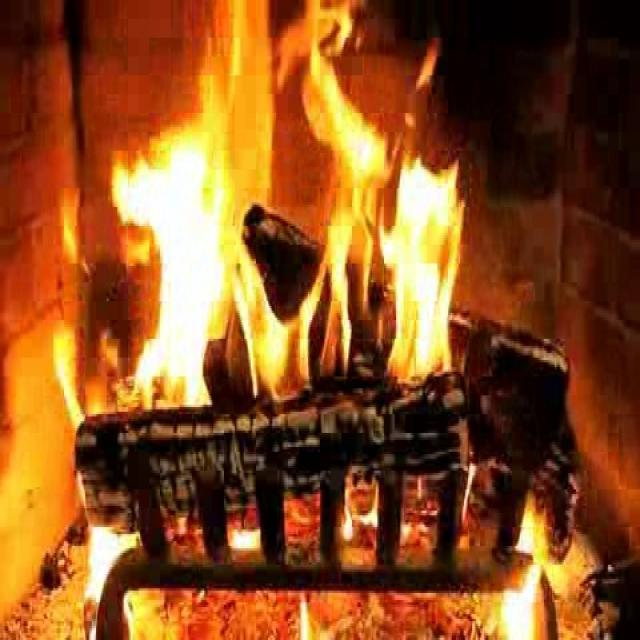Fire: (106, 30, 474, 431)
